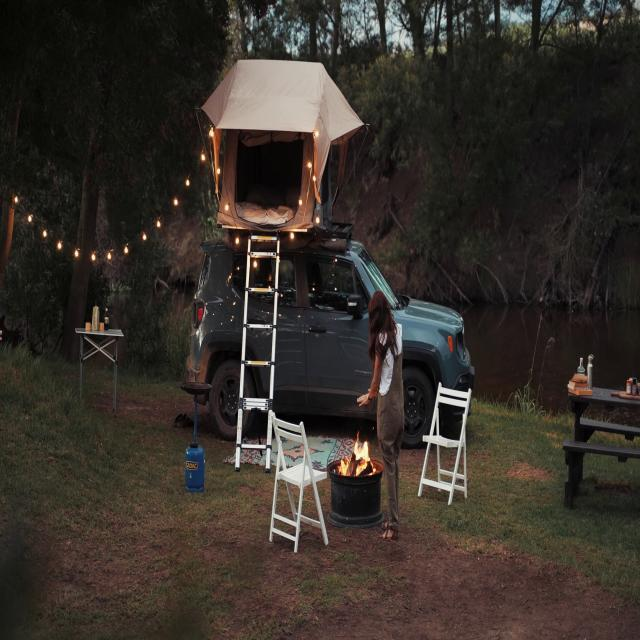Fire: (340, 432, 376, 476)
